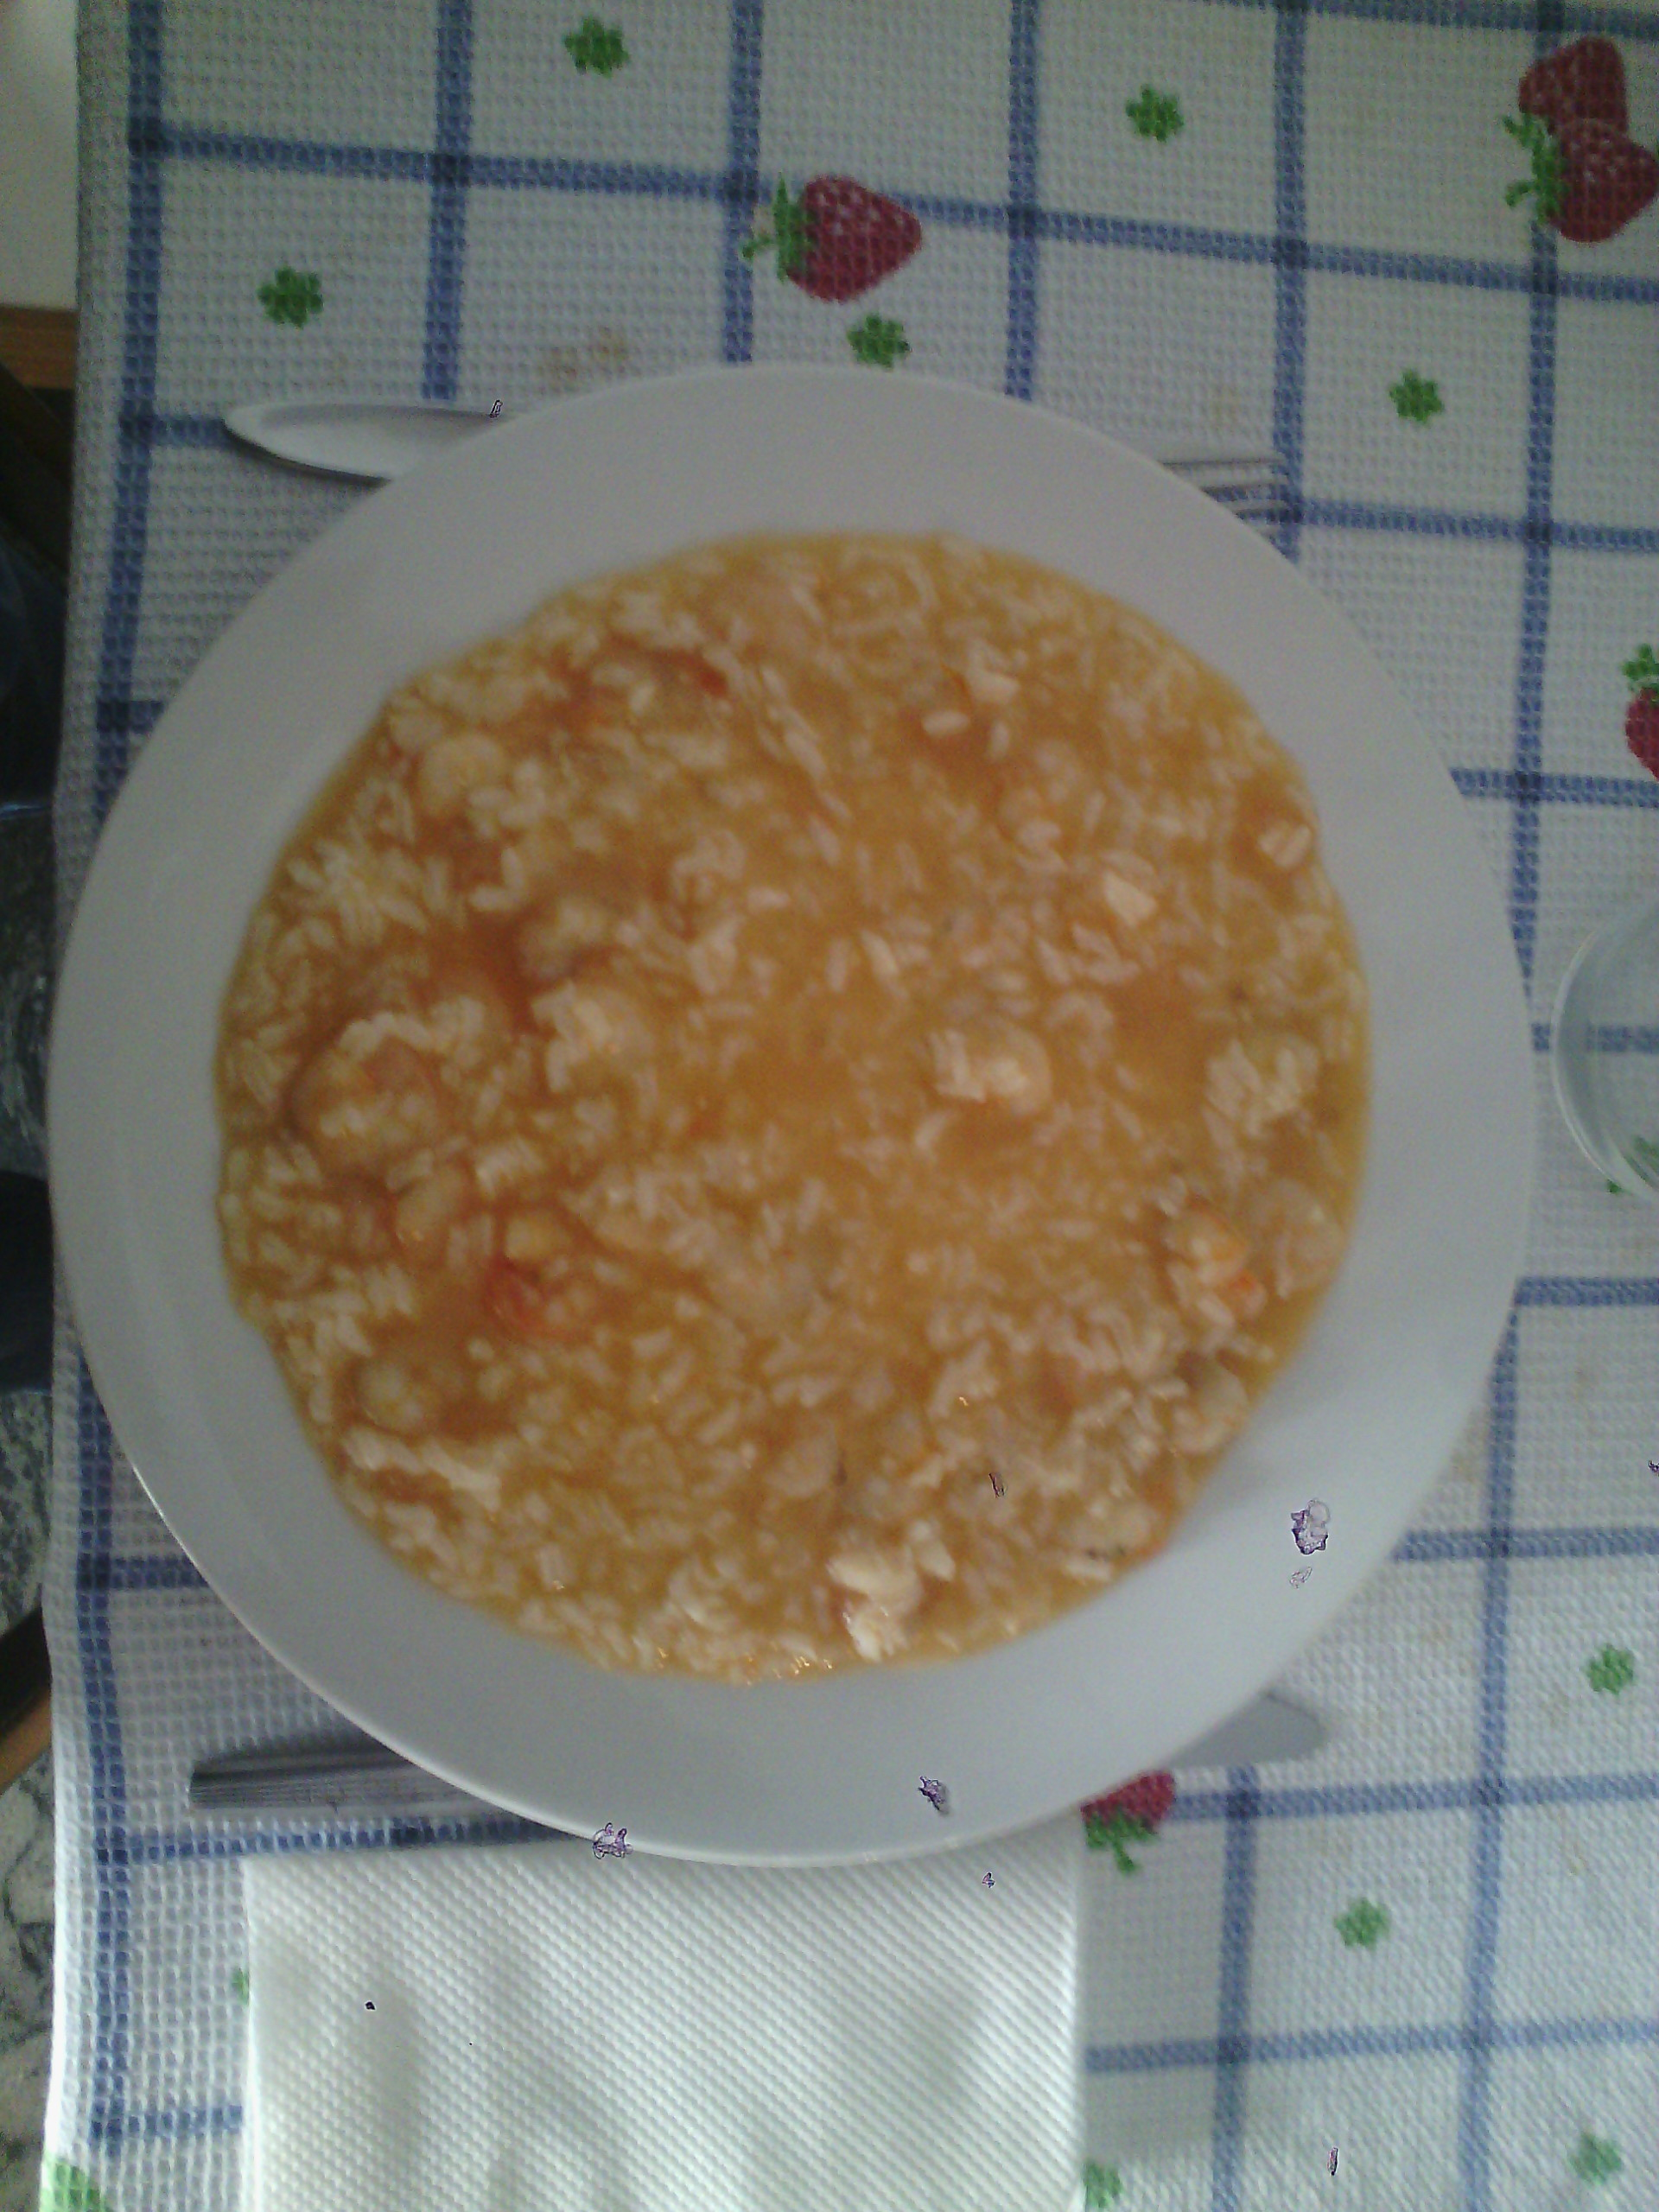81-100: (61, 371, 1540, 1867)
